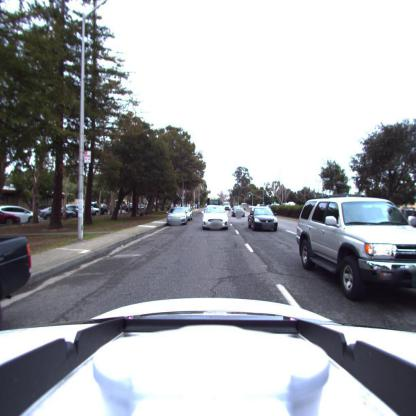car: (296, 197, 416, 305), (0, 230, 41, 315), (249, 206, 278, 233), (0, 205, 34, 226), (202, 206, 228, 230), (166, 206, 192, 226), (64, 204, 86, 219), (233, 204, 248, 218), (39, 208, 52, 220), (223, 203, 231, 212)
